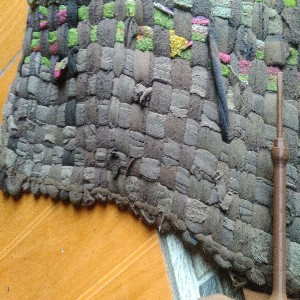obeng: (269, 70, 290, 300)
